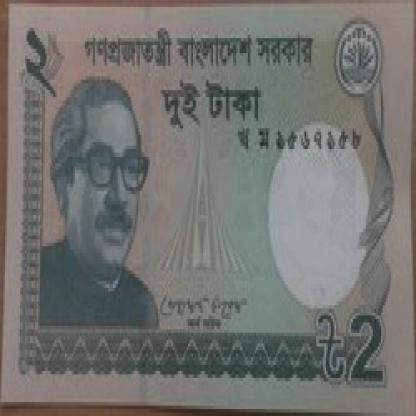two taka: (313, 291, 388, 402), (15, 28, 82, 114)
